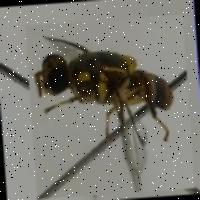Oriental-fruit-fly: (24, 14, 194, 199)
